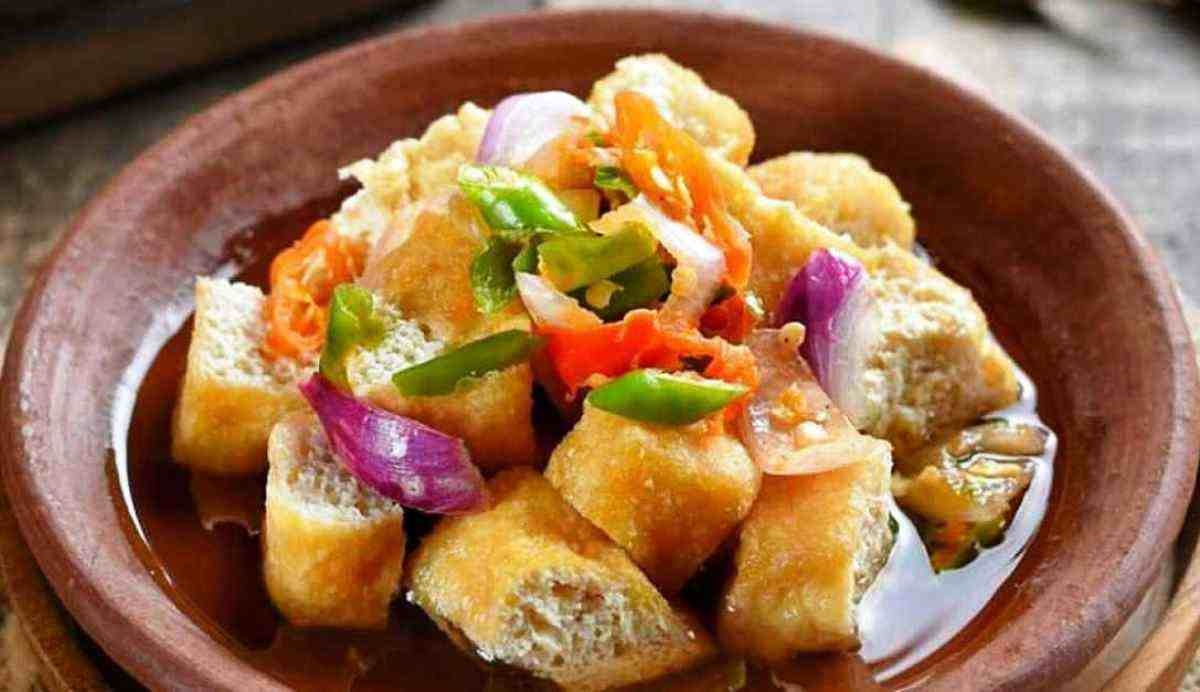tahu_gejrot: (173, 45, 1056, 689)
